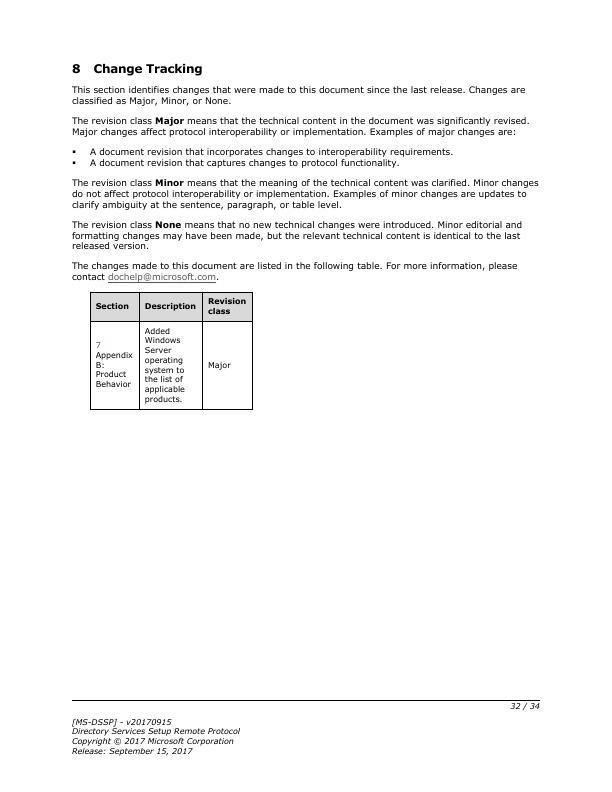table: (91, 292, 252, 409)
text: (70, 175, 545, 213), (69, 218, 522, 253), (71, 114, 530, 140), (71, 259, 519, 285), (70, 83, 526, 107), (87, 146, 454, 169), (69, 716, 243, 757), (68, 60, 205, 78)
